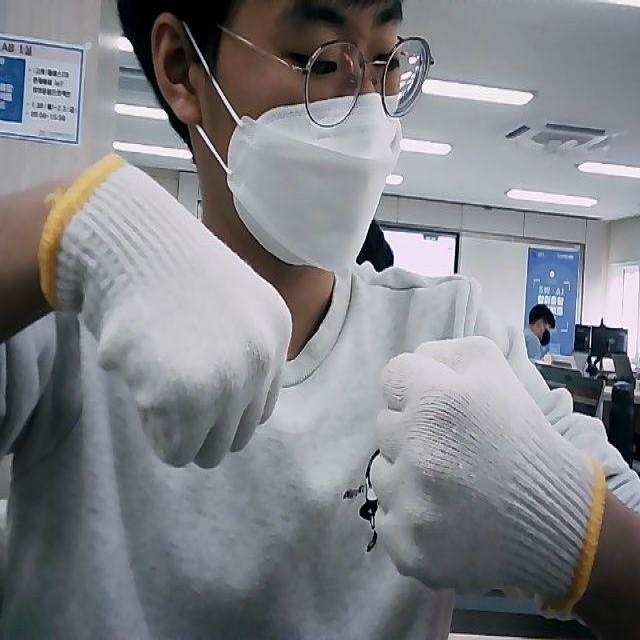Guantes: (38, 152, 295, 473), (373, 336, 606, 614)
